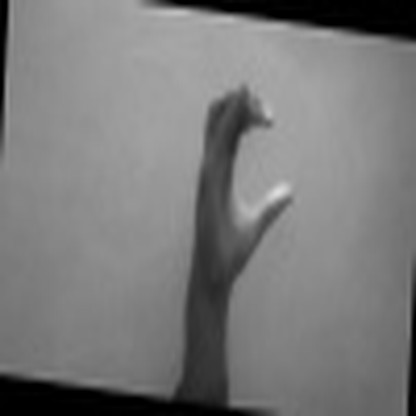c: (193, 76, 296, 276)
